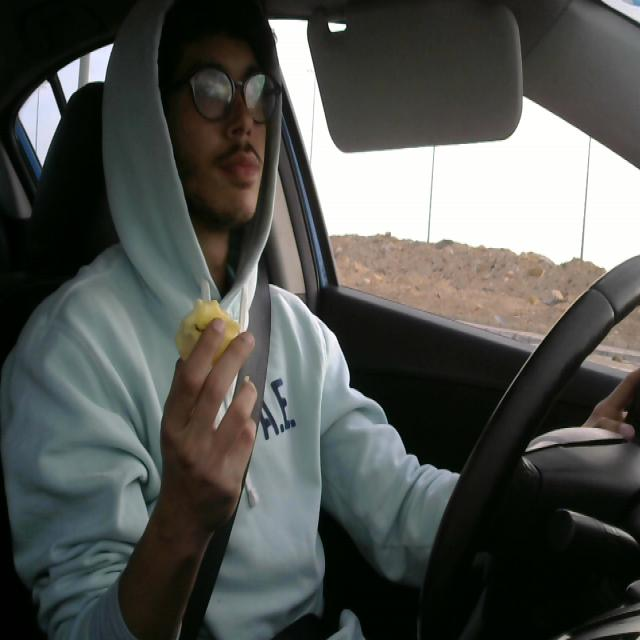eating: (173, 290, 243, 376)
